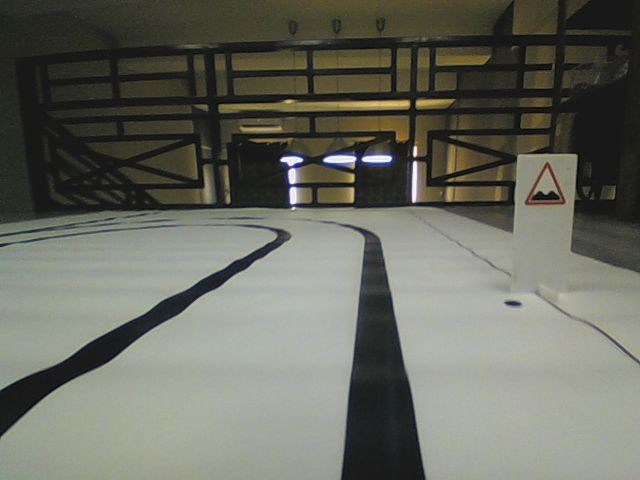Nerov: (523, 160, 566, 206)
